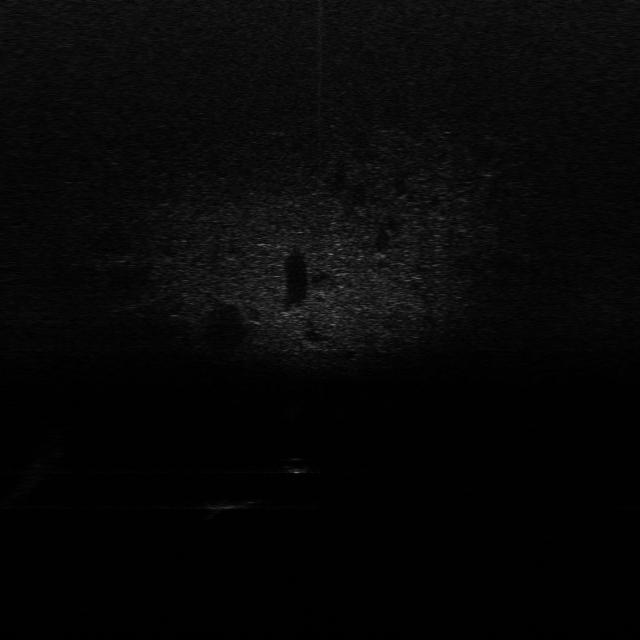ball: (280, 454, 316, 476)
square cage: (203, 492, 264, 517)
